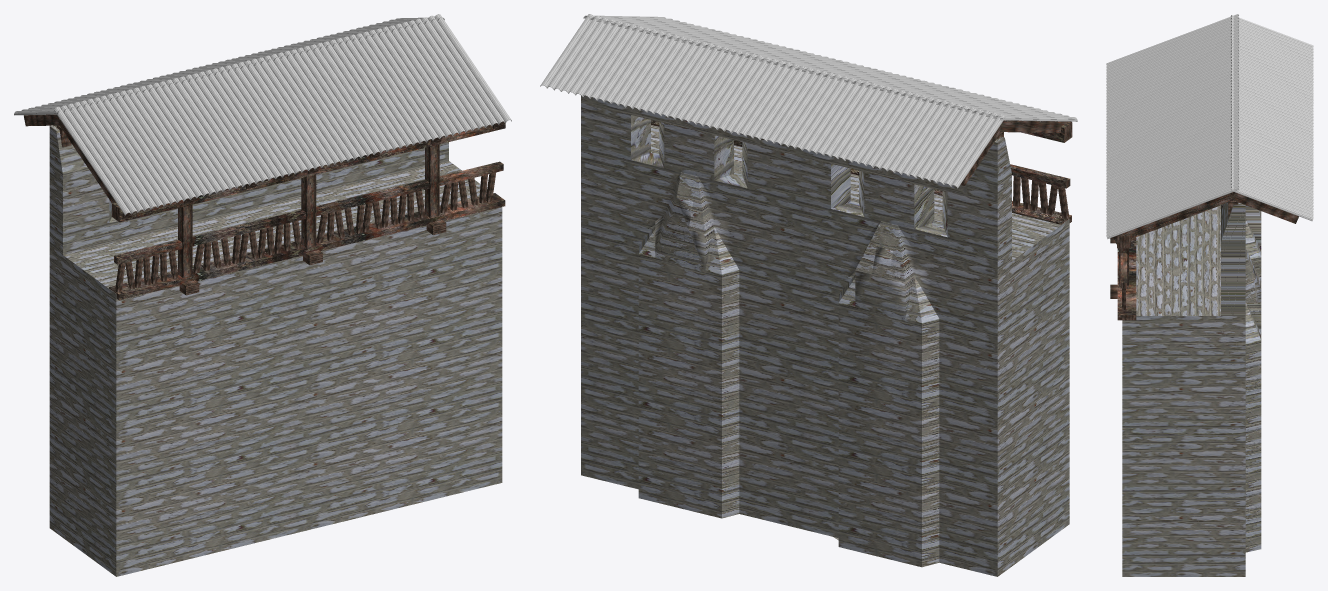
The model's file is WallTextured.FBX.
3 views of the same model, side by side, from view 1: azimuth 30°, elevation 25°; view 2: azimuth 150°, elevation 25°; view 3: azimuth 270°, elevation 25° (orthographic). The views are drawn at different scales.
Visible parts, largest first — view 1: Wall, UnderBar, MiddleBar, OverBar, VBar2, VBar3, VBar1, RoofTile, RoofTile031, RoofTile055, RoofTile053, RoofTile002 (+54 smaller); view 2: Wall, DiagConBar1, UnderBar, MiddleBar; view 3: Wall, UnderBar, DiagConBar006, RoofTile058, DiagOutBar007, RoofTile025, RoofTile057, RoofTile055, RoofTile012, RoofTile004, RoofTile005, RoofTile009 (+111 smaller).
Part boxes in pixels (left/top/right/bottom): Wall: left=49, top=125, right=502, bottom=576; UnderBar: left=109, top=193, right=505, bottom=300; MiddleBar: left=114, top=161, right=503, bottom=264; OverBar: left=112, top=122, right=505, bottom=222; VBar2: left=301, top=174, right=316, bottom=247; VBar3: left=425, top=144, right=439, bottom=217; VBar1: left=178, top=204, right=192, bottom=277; RoofTile: left=54, top=107, right=131, bottom=215; RoofTile031: left=192, top=73, right=269, bottom=181; RoofTile055: left=415, top=18, right=492, bottom=127; RoofTile053: left=395, top=23, right=472, bottom=132; RoofTile002: left=74, top=102, right=150, bottom=210; Wall: left=581, top=95, right=1069, bottom=576; DiagConBar1: left=1000, top=120, right=1071, bottom=132; UnderBar: left=651, top=120, right=1071, bottom=224; MiddleBar: left=1010, top=164, right=1070, bottom=188; Wall: left=1122, top=202, right=1261, bottom=576; UnderBar: left=1117, top=237, right=1136, bottom=320; DiagConBar006: left=1113, top=192, right=1234, bottom=244; RoofTile058: left=1106, top=185, right=1238, bottom=238; DiagOutBar007: left=1232, top=192, right=1298, bottom=223; RoofTile025: left=1106, top=117, right=1238, bottom=169; RoofTile057: left=1106, top=179, right=1238, bottom=231; RoofTile055: left=1106, top=176, right=1238, bottom=228; RoofTile012: left=1106, top=52, right=1238, bottom=104; RoofTile004: left=1106, top=26, right=1238, bottom=77; RoofTile005: left=1106, top=29, right=1238, bottom=80; RoofTile009: left=1106, top=40, right=1238, bottom=92.
Size of the model in its own units: 50.2 by 52.39 by 25.21.
